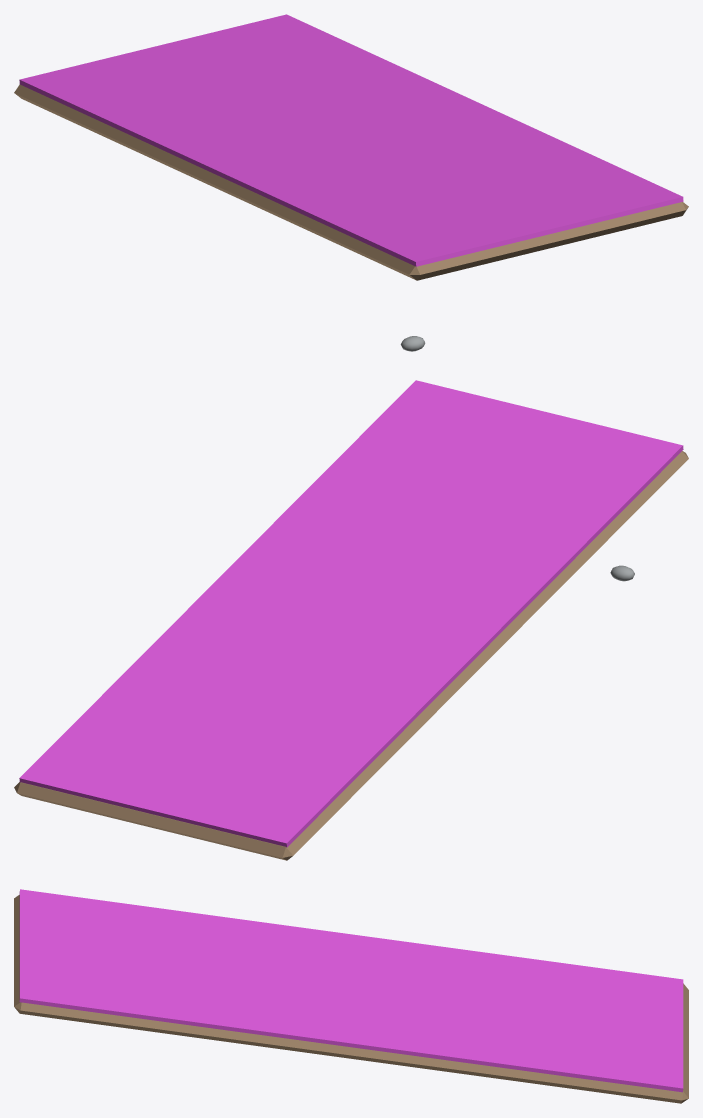
The picture shows the model from 3 angles, top to bottom: view 1: azimuth 30°, elevation 25°; view 2: azimuth 150°, elevation 25°; view 3: azimuth 270°, elevation 25°; orthographic projection. The views are drawn at different scales.
Visible parts, largest first — view 1: NAV_MASK_FOREST_PATH_DIRT_SLOPE_UP_SLOPE, LOD2_FOREST_PATH_DIRT_SLOPE_UP_Slope; view 2: NAV_MASK_FOREST_PATH_DIRT_SLOPE_UP_SLOPE, LOD2_FOREST_PATH_DIRT_SLOPE_UP_Slope; view 3: NAV_MASK_FOREST_PATH_DIRT_SLOPE_UP_SLOPE, LOD2_FOREST_PATH_DIRT_SLOPE_UP_Slope.
Boxes of the visible parts, <box> form: NAV_MASK_FOREST_PATH_DIRT_SLOPE_UP_SLOPE: <box>19,14,683,266</box>; LOD2_FOREST_PATH_DIRT_SLOPE_UP_Slope: <box>14,84,688,280</box>; NAV_MASK_FOREST_PATH_DIRT_SLOPE_UP_SLOPE: <box>19,380,683,847</box>; LOD2_FOREST_PATH_DIRT_SLOPE_UP_Slope: <box>14,451,688,860</box>; NAV_MASK_FOREST_PATH_DIRT_SLOPE_UP_SLOPE: <box>19,889,683,1092</box>; LOD2_FOREST_PATH_DIRT_SLOPE_UP_Slope: <box>14,895,688,1103</box>.
Size of what is drawn, in the model's own units: 3.2 by 1.38 by 8.
